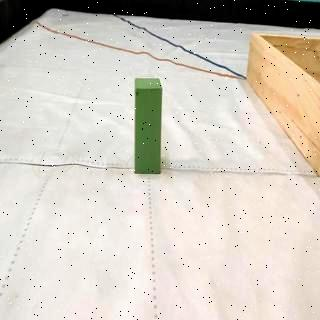greenbox: (132, 76, 165, 176)
